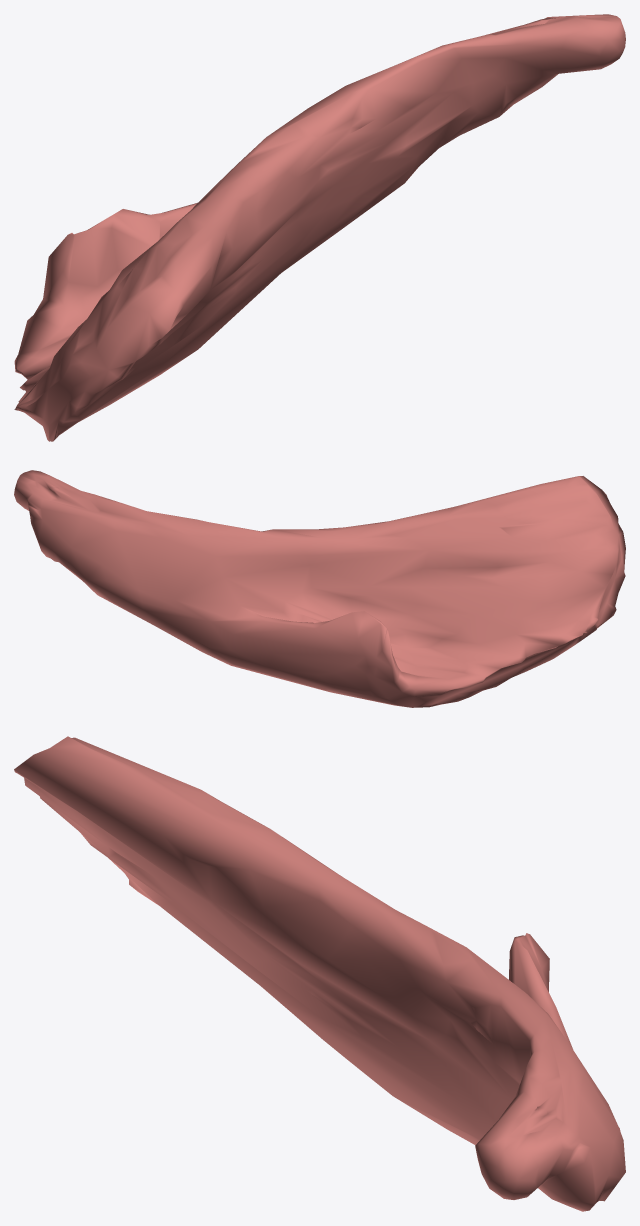
3 views of the same model, one above another, from view 1: azimuth 30°, elevation 25°; view 2: azimuth 150°, elevation 25°; view 3: azimuth 270°, elevation 25° (orthographic). The views are drawn at different scales.
Parts seen in each view (by area): view 1: ZA_df13ca13b737252d; view 2: ZA_df13ca13b737252d; view 3: ZA_df13ca13b737252d.
Boxes of the visible parts, left/top/right/bottom form: ZA_df13ca13b737252d: left=14, top=14, right=625, bottom=441; ZA_df13ca13b737252d: left=14, top=470, right=625, bottom=707; ZA_df13ca13b737252d: left=14, top=736, right=625, bottom=1211.
Size of the model in its own units: 0.0995 by 0.0309 by 0.0582.
